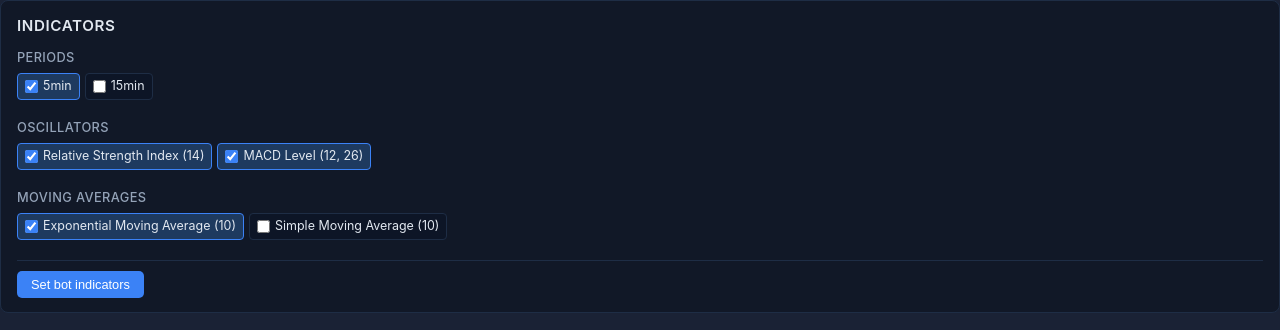
Test: Indicators — integration › shows save feedback on successful POST
The width and height of the screenshot is (1280, 330).
expect the text "5min" is shown: met, box [25,77,72,96]
Click the button "Set bot indicators". click: click(80, 284)
box: [17,270,144,298]
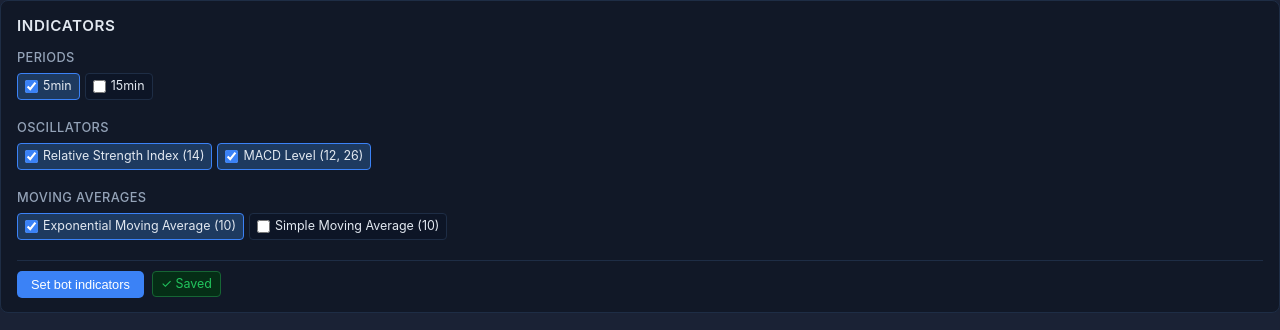
expect the text "✓ Saved" is shown: met, box [152,271,221,297]
